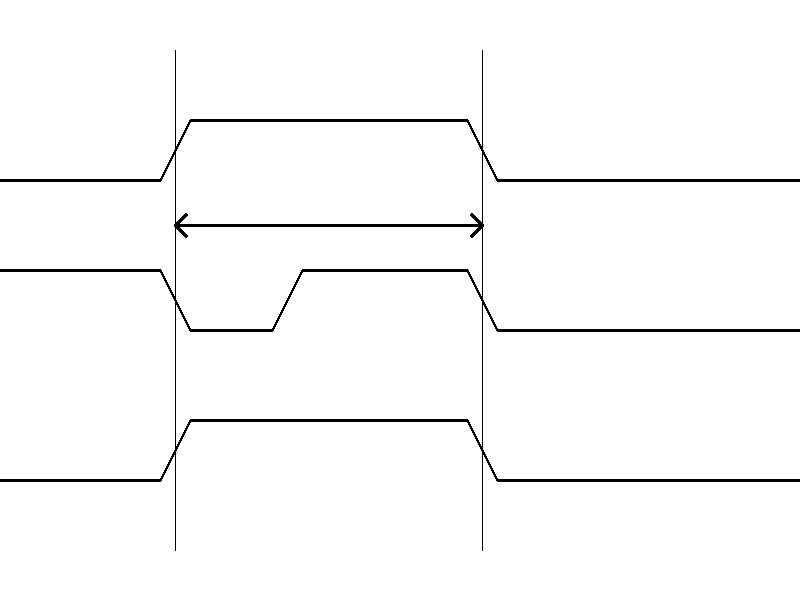double_arrow: (175, 210, 482, 240)
